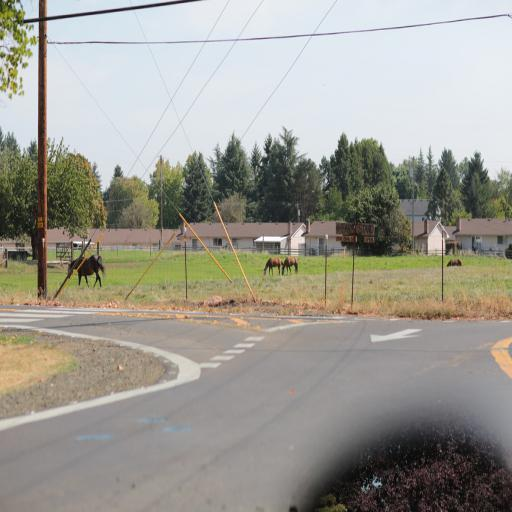horse: (66, 251, 106, 290), (262, 253, 285, 280), (282, 256, 298, 280), (445, 256, 463, 268)
